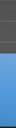bar: (0, 50, 16, 58)
